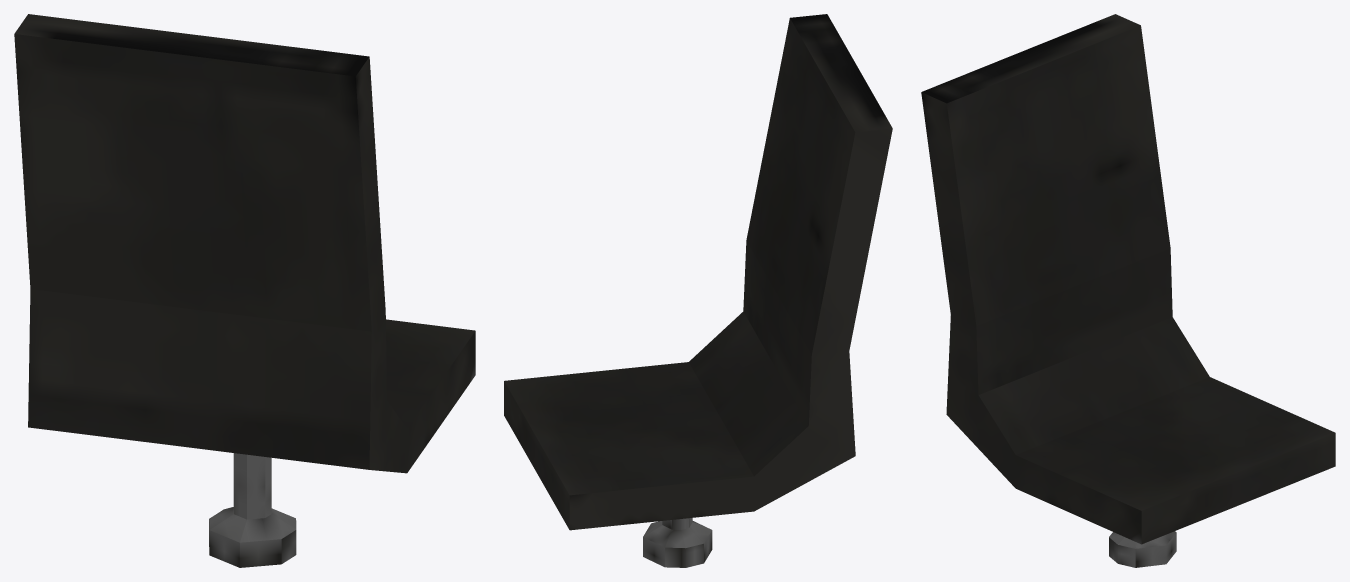
File: chair.glb
The picture shows the model from 3 angles, left to right: view 1: azimuth 30°, elevation 25°; view 2: azimuth 150°, elevation 25°; view 3: azimuth 270°, elevation 25°; orthographic projection. The views are drawn at different scales.
Parts seen in each view (by area): view 1: Helm Chair; view 2: Helm Chair; view 3: Helm Chair.
Part boxes in pixels (box(x1,y1,x2,y2)): Helm Chair: box(14, 14, 475, 567); Helm Chair: box(504, 14, 892, 567); Helm Chair: box(921, 14, 1335, 567).
Bounding box in the file's own units: 0.9522 × 1.12 × 0.948.
1 material, 1 textured.
